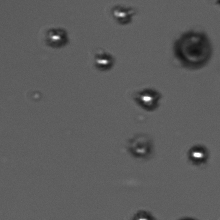Dead Cell: (178, 35, 209, 64), (130, 138, 152, 157)
Living Cell: (138, 90, 156, 106), (188, 148, 206, 163), (114, 10, 128, 23), (49, 31, 64, 43), (97, 55, 109, 69)
